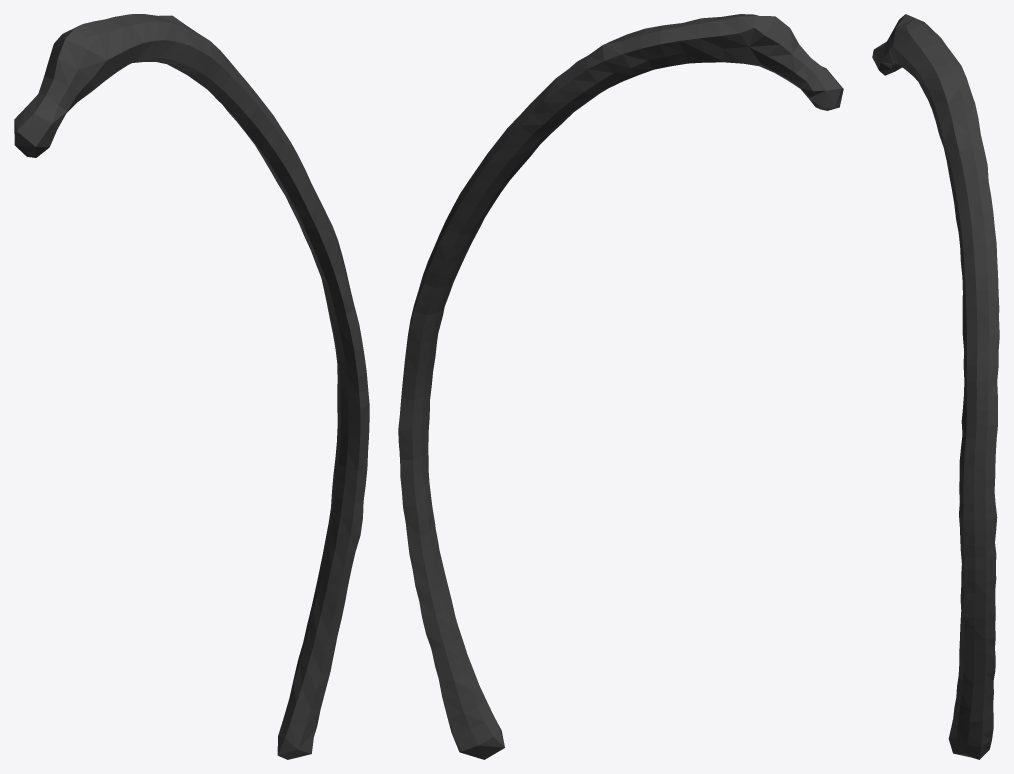
File: Rib_6.glb
3 renders of one model, left to right at view 1: azimuth 30°, elevation 25°; view 2: azimuth 150°, elevation 25°; view 3: azimuth 270°, elevation 25°, orthographic. The views are drawn at different scales.
Visible parts, largest first — view 1: Rib_6; view 2: Rib_6; view 3: Rib_6.
Boxes of the visible parts, bbox=[...] form: Rib_6: bbox=[14, 14, 369, 759]; Rib_6: bbox=[398, 14, 843, 759]; Rib_6: bbox=[872, 14, 999, 759].
Bounding box in the file's own units: 4.25 × 8.21 × 1.48.
1 material, 1 textured.
